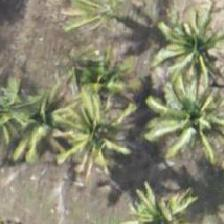Kelapa_Sawit: (52, 92, 142, 182), (60, 43, 150, 133), (150, 74, 223, 165), (152, 5, 223, 96), (65, 0, 155, 56), (119, 174, 210, 223), (0, 67, 46, 157)
